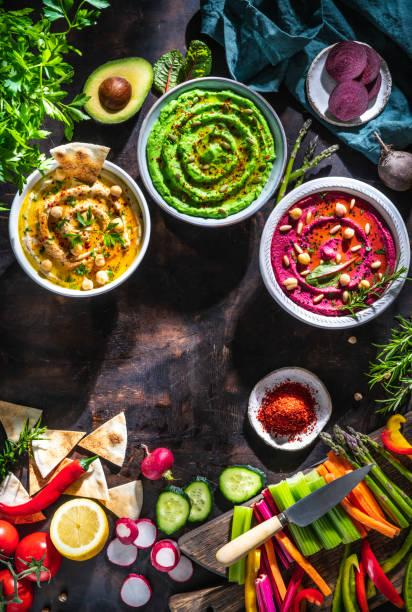Braised Crucian Carp: (257, 177, 409, 326), (136, 76, 285, 227), (4, 158, 146, 297)
